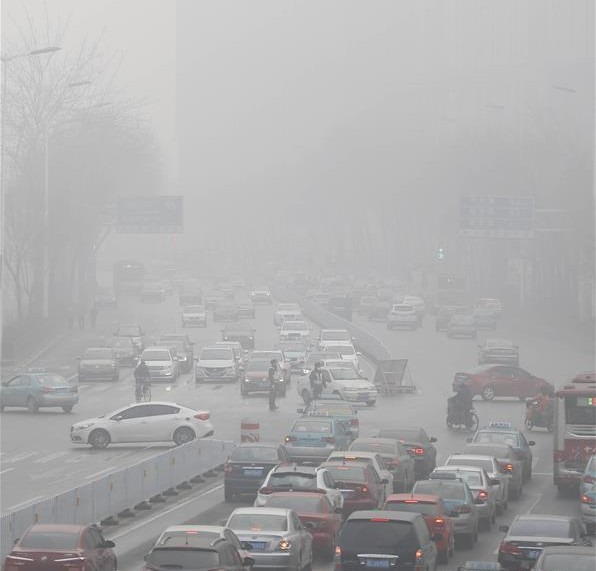bicycle: (133, 376, 152, 400)
bus: (552, 378, 595, 494), (114, 257, 144, 298)
car: (65, 400, 215, 449), (222, 502, 315, 570), (242, 494, 328, 566), (2, 522, 119, 570), (342, 509, 434, 569), (140, 525, 253, 570), (378, 497, 454, 563), (496, 517, 581, 570), (315, 455, 390, 513), (417, 476, 481, 542), (220, 441, 284, 503), (443, 461, 504, 522), (465, 434, 528, 492), (0, 370, 77, 414), (296, 358, 375, 400), (458, 363, 540, 400), (356, 440, 416, 484), (382, 423, 438, 470), (284, 418, 335, 462), (237, 353, 284, 400), (302, 398, 356, 436), (194, 343, 239, 382), (135, 346, 177, 382), (78, 347, 118, 381), (317, 325, 357, 358), (478, 342, 521, 366), (386, 302, 419, 331), (111, 334, 138, 369), (222, 322, 257, 345), (280, 317, 310, 342), (279, 345, 307, 370), (449, 314, 476, 338), (369, 298, 391, 323), (182, 303, 207, 324), (213, 298, 239, 317), (276, 300, 302, 319), (331, 294, 353, 316), (95, 286, 116, 309), (435, 302, 451, 328), (249, 281, 269, 300)
motorcycle: (447, 396, 481, 430), (523, 394, 551, 433)
person: (453, 378, 465, 434), (530, 381, 543, 425), (269, 356, 278, 415), (309, 361, 323, 398), (137, 356, 148, 391)
